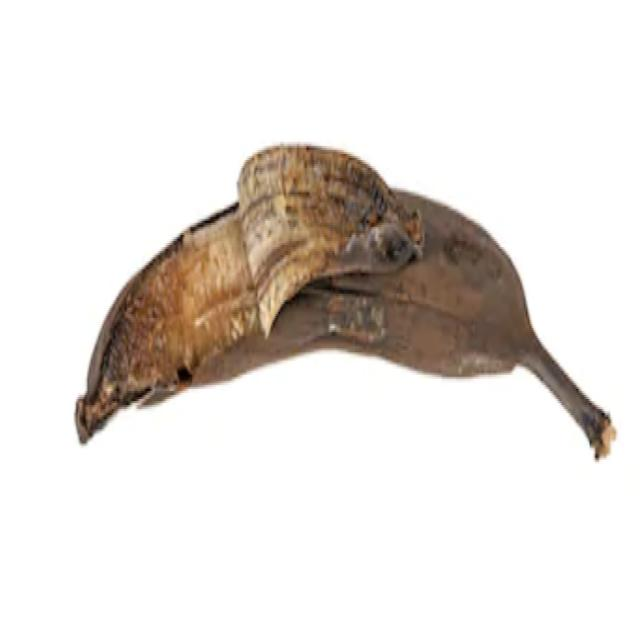fresh-banana: (73, 140, 616, 462)
